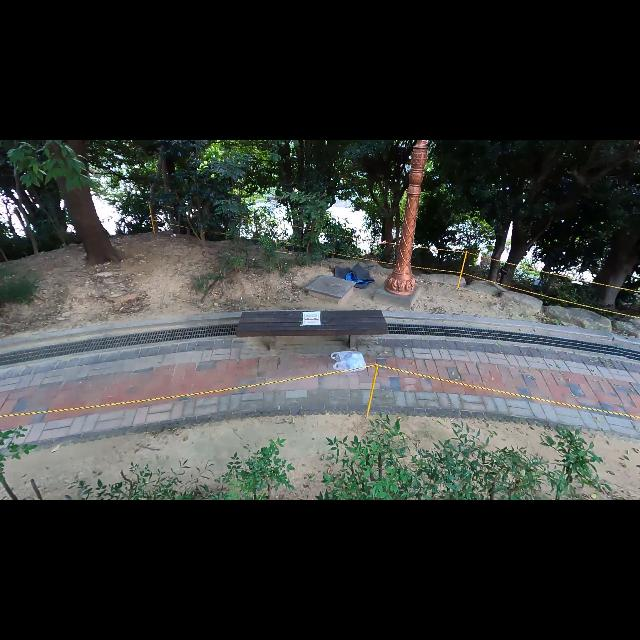trash: (332, 262, 376, 290), (330, 348, 368, 374)
